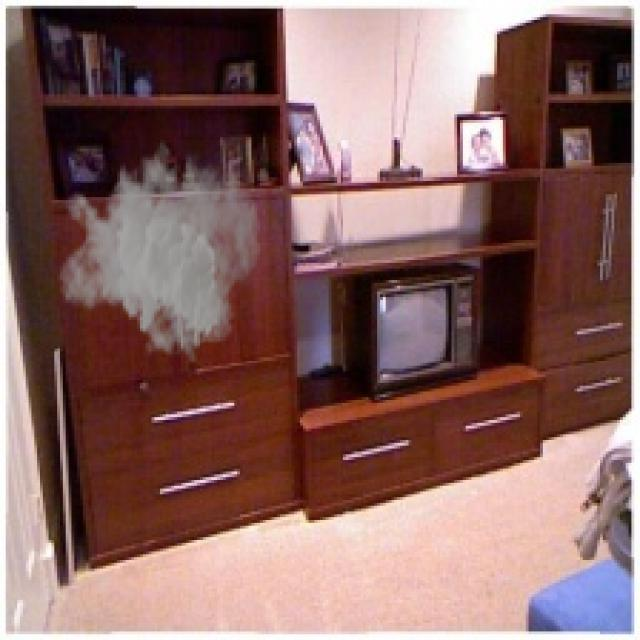Smoke: (57, 132, 263, 366)
